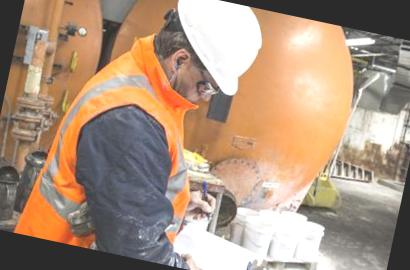helmet: (151, 0, 279, 99)
person: (7, 0, 282, 270)
